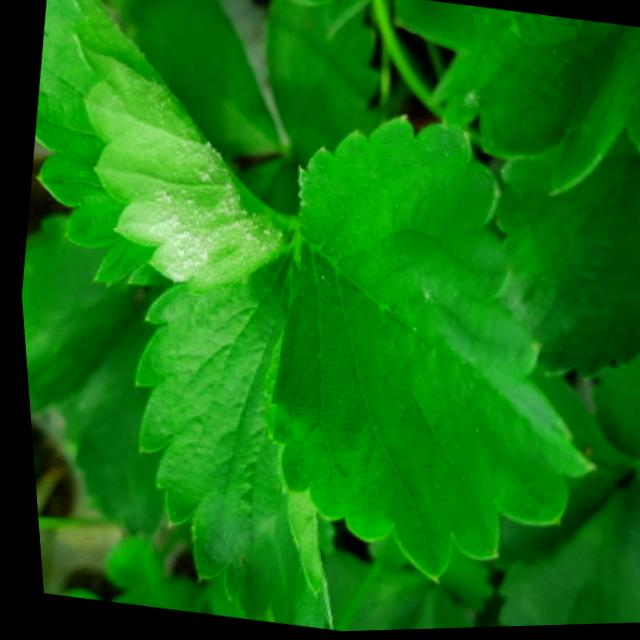Powdery Mildew Leaf: (33, 0, 294, 298)
